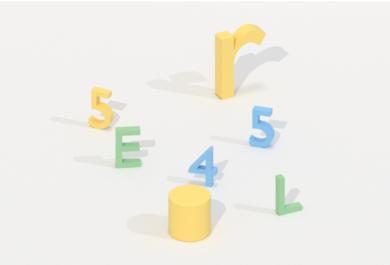0-KhoiTru: (163, 182, 214, 246)
4: (185, 142, 223, 187)
5: (247, 99, 279, 153), (87, 80, 116, 132)
E: (111, 122, 146, 174)
L: (271, 169, 305, 222)
r: (210, 19, 267, 102)
